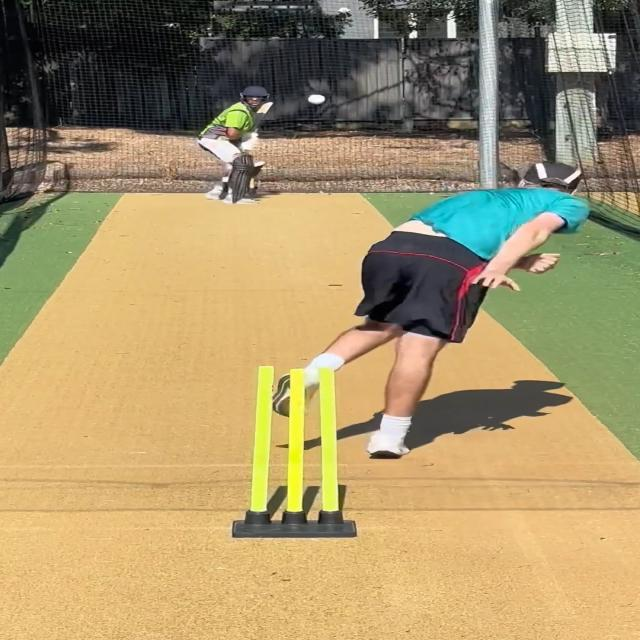ball: (306, 93, 327, 106)
stump: (234, 366, 348, 539)
